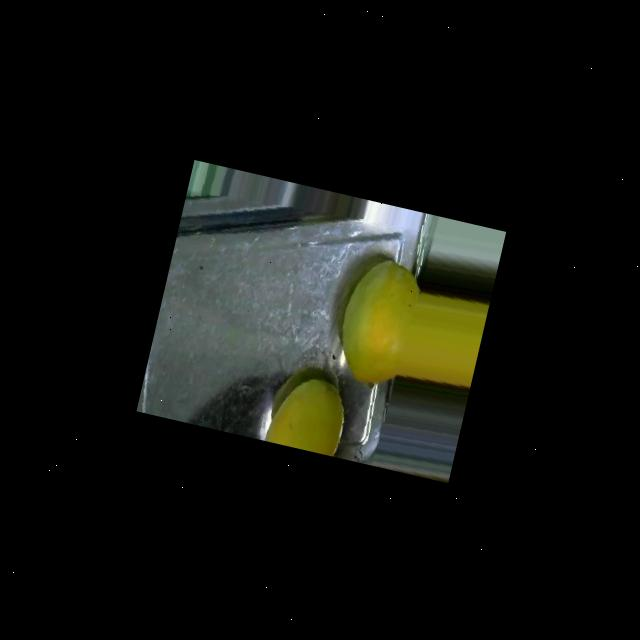Mango: (328, 252, 493, 406), (329, 252, 425, 390), (264, 368, 352, 456)
